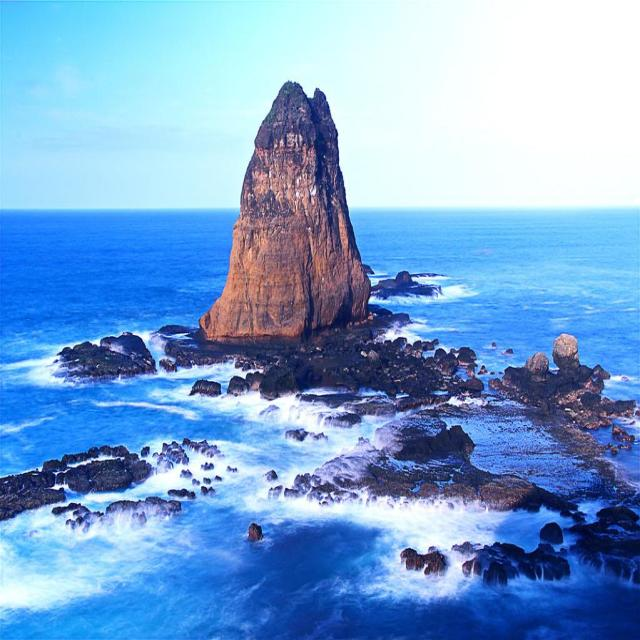reef: (201, 66, 381, 366)
